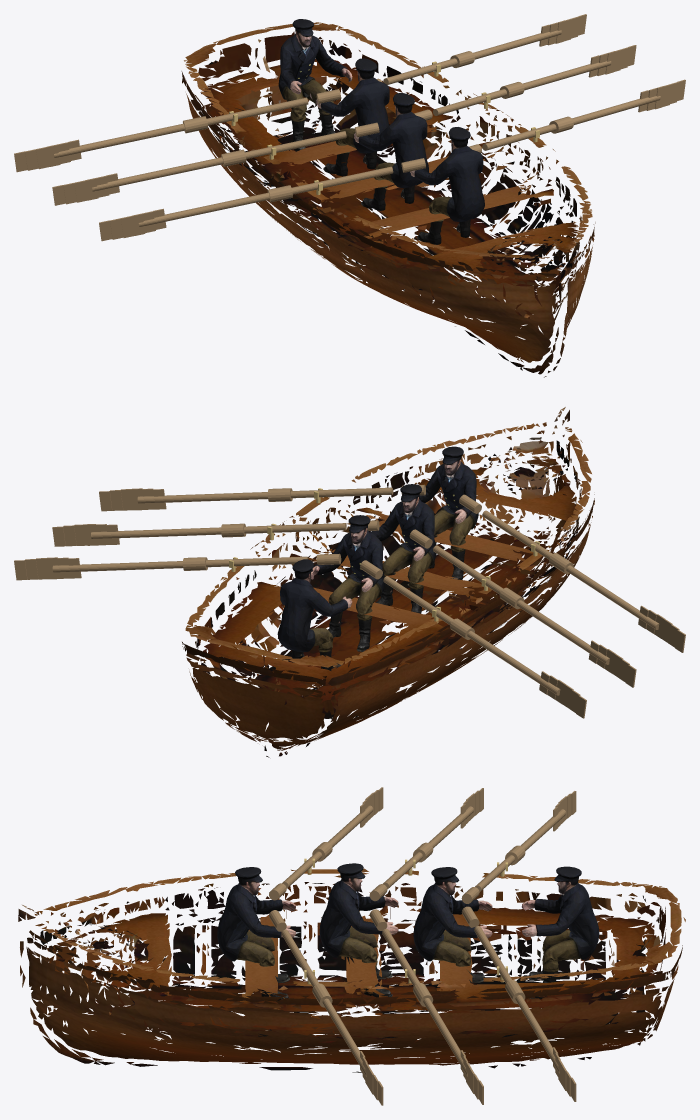
Rendered from rowing_gig_crewed.glb.
3 renders of one model, top to bottom at view 1: azimuth 30°, elevation 25°; view 2: azimuth 150°, elevation 25°; view 3: azimuth 270°, elevation 25°, orthographic. The views are drawn at different scales.
Visible parts, largest first — view 1: HullBody, PART_oar_1_port, PART_oar_0_port, PART_oar_2_port, PART_oar_1_stbd, PART_oar_0_stbd, PART_oar_2_stbd; view 2: HullBody, PART_oar_2_stbd, PART_oar_1_stbd, PART_oar_0_stbd, PART_oar_1_port, PART_oar_0_port, PART_oar_2_port; view 3: HullBody, PART_oar_0_stbd, PART_oar_2_stbd, PART_oar_1_stbd, PART_oar_2_port, PART_oar_1_port, PART_oar_0_port.
Part boxes in pixels (<box>): HullBody: <box>181,19,595,377</box>; PART_oar_1_port: <box>52,122,379,205</box>; PART_oar_0_port: <box>99,158,425,241</box>; PART_oar_2_port: <box>14,89,341,172</box>; PART_oar_1_stbd: <box>414,45,636,120</box>; PART_oar_0_stbd: <box>469,79,685,153</box>; PART_oar_2_stbd: <box>376,14,586,84</box>; HullBody: <box>182,407,594,757</box>; PART_oar_2_stbd: <box>14,553,341,580</box>; PART_oar_1_stbd: <box>52,520,379,546</box>; PART_oar_0_stbd: <box>99,484,425,511</box>; PART_oar_1_port: <box>409,529,636,687</box>; PART_oar_0_port: <box>459,494,685,652</box>; PART_oar_2_port: <box>360,560,586,718</box>; HullBody: <box>18,858,685,1072</box>; PART_oar_0_stbd: <box>269,910,383,1105</box>; PART_oar_2_stbd: <box>461,906,576,1101</box>; PART_oar_1_stbd: <box>369,909,483,1104</box>; PART_oar_2_port: <box>461,791,576,903</box>; PART_oar_1_port: <box>369,788,483,901</box>; PART_oar_0_port: <box>269,787,383,900</box>.
Size of the model in its own units: 8.33 by 2.65 by 7.88.
4 materials, 2 textured.
